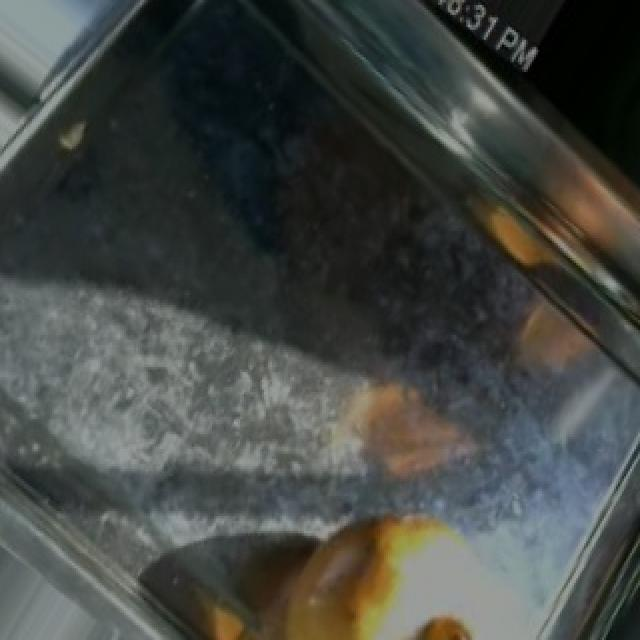fruit: (258, 486, 512, 638)
